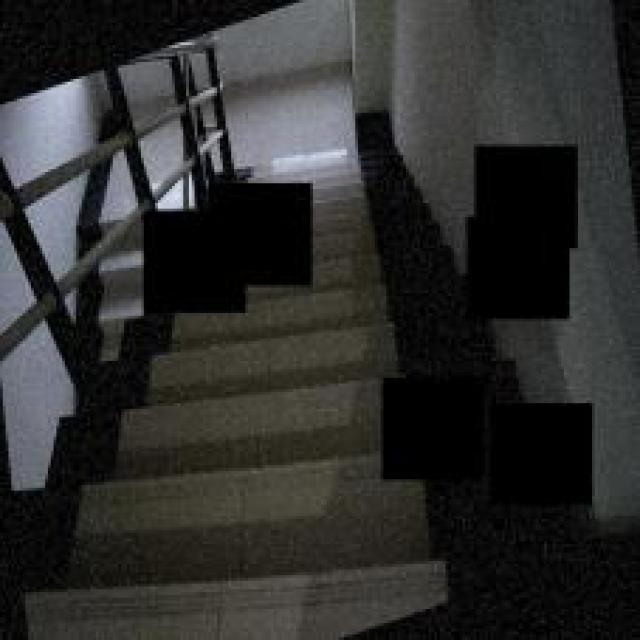downstair: (79, 335, 372, 640)
